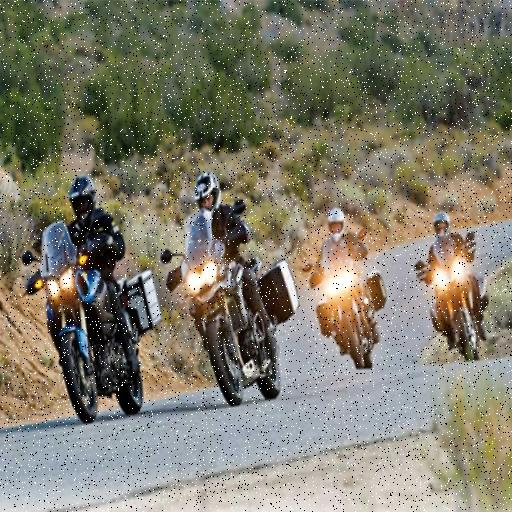Helmet: (66, 176, 104, 229), (194, 174, 224, 222), (323, 212, 349, 240), (434, 213, 451, 239)
Motor: (25, 246, 164, 426), (167, 230, 298, 406), (305, 254, 389, 374), (430, 244, 483, 358)
